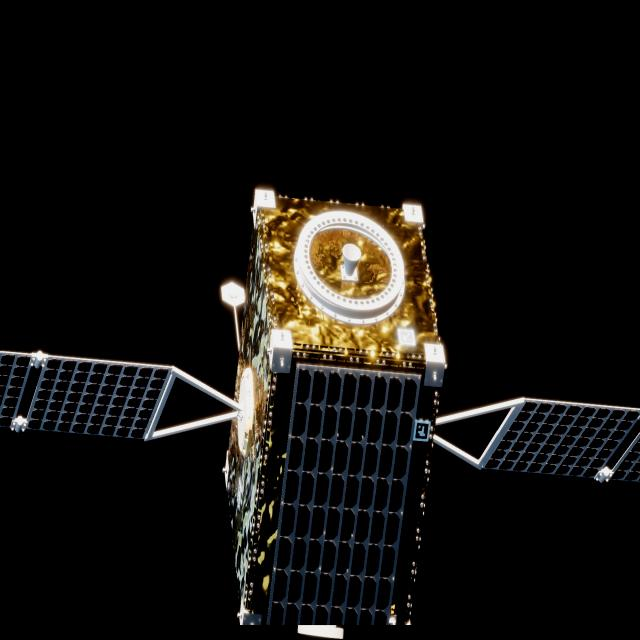medium_debris: (0, 188, 640, 632)
